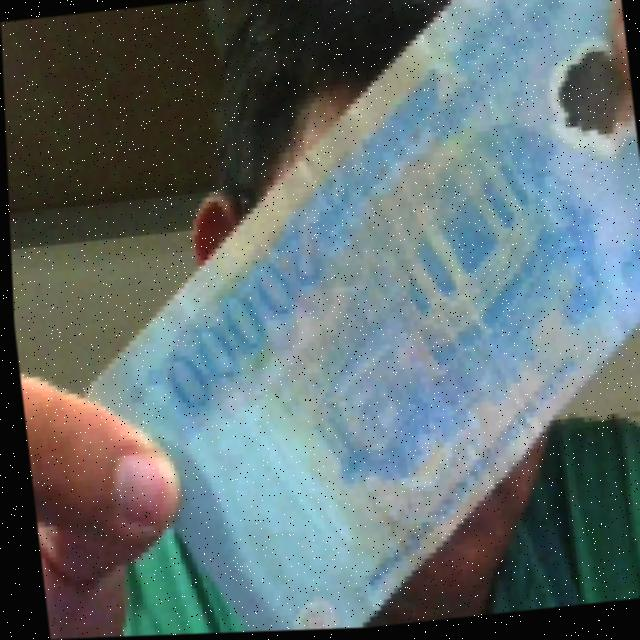20 000 VND: (32, 0, 640, 639)
